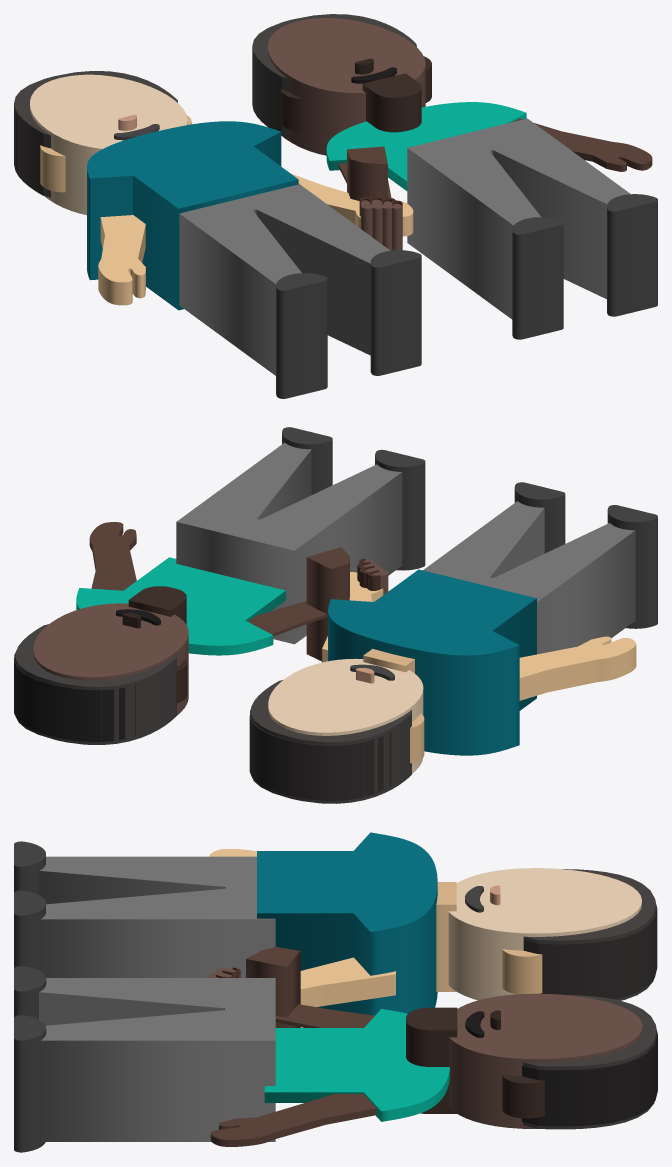
The model's file is emoji_u1f468_1f3fb_200d_1f91d_200d_1f468_1f3ff.glb.
The picture shows the model from 3 angles, top to bottom: view 1: azimuth 30°, elevation 25°; view 2: azimuth 150°, elevation 25°; view 3: azimuth 270°, elevation 25°; orthographic projection. The views are drawn at different scales.
Parts seen in each view (by area): view 1: emoji_u1f468_1f3fb_200d_1f91d_200d_1f468_1f3ff; view 2: emoji_u1f468_1f3fb_200d_1f91d_200d_1f468_1f3ff; view 3: emoji_u1f468_1f3fb_200d_1f91d_200d_1f468_1f3ff.
Part boxes in pixels (x1,y1,x2,y2): emoji_u1f468_1f3fb_200d_1f91d_200d_1f468_1f3ff: (14, 14, 657, 398); emoji_u1f468_1f3fb_200d_1f91d_200d_1f468_1f3ff: (14, 427, 657, 803); emoji_u1f468_1f3fb_200d_1f91d_200d_1f468_1f3ff: (14, 832, 657, 1152).
Bounding box in the file's own units: 0.0346 × 0.0066 × 0.0334.
